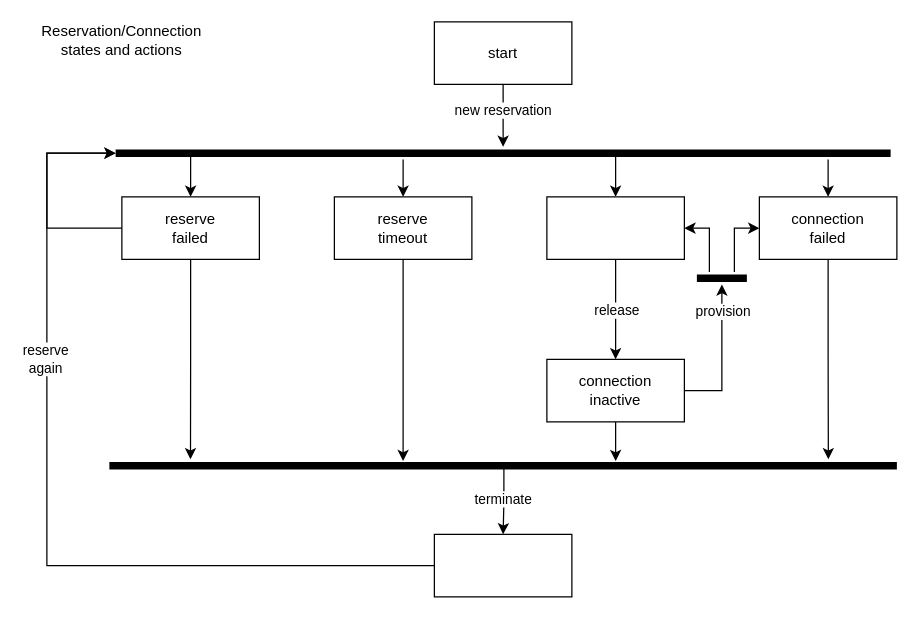
The diagram is 921 pixels wide and 619 high, and some of its shapes have lost their labels. Here are the shapes that lost their labels. From the top down, the centre of each, then its label:
At (615,227): "connection active".
At (502,565): "terminated".
